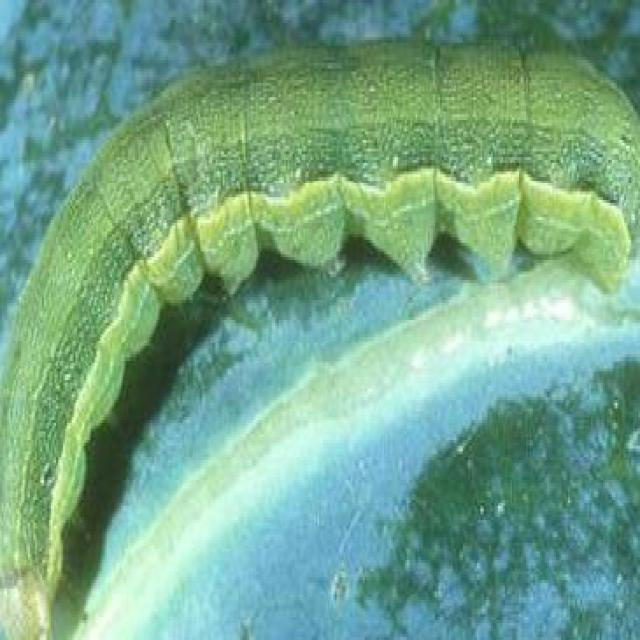BeetArmyWorm-Larva-: (4, 35, 636, 637)
